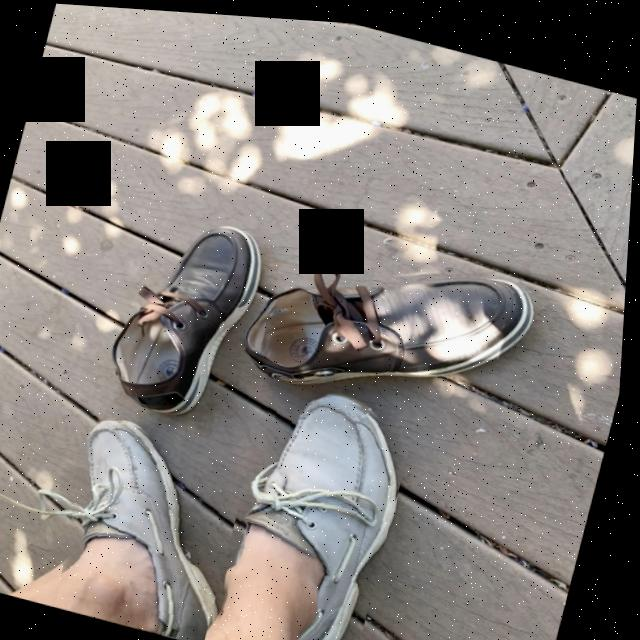shoe: (251, 394, 404, 640), (85, 419, 222, 640)
